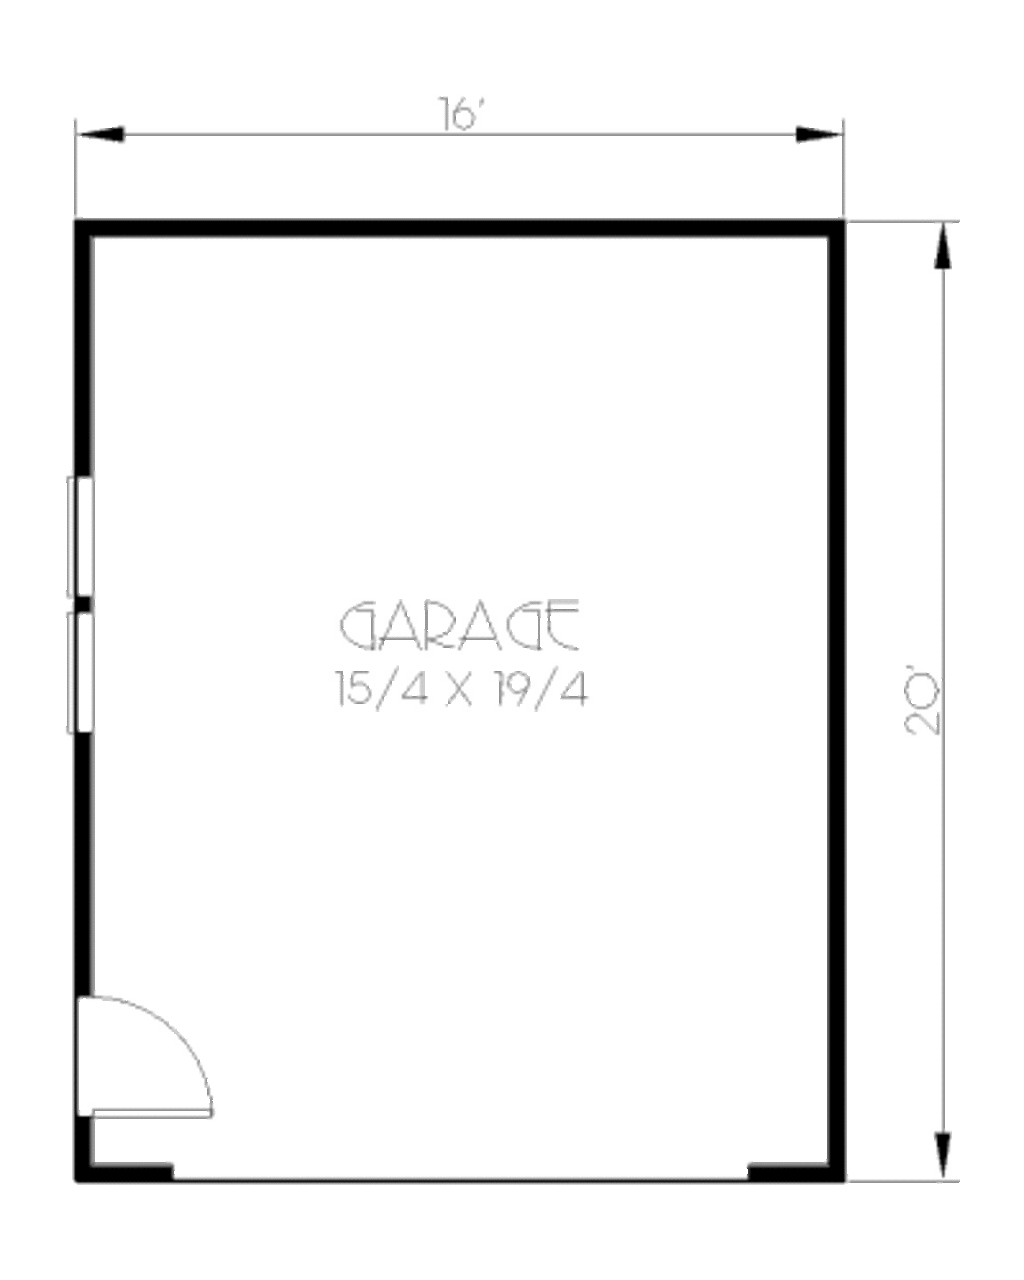door: (73, 984, 220, 1119)
window: (61, 470, 110, 615), (63, 608, 106, 734)
